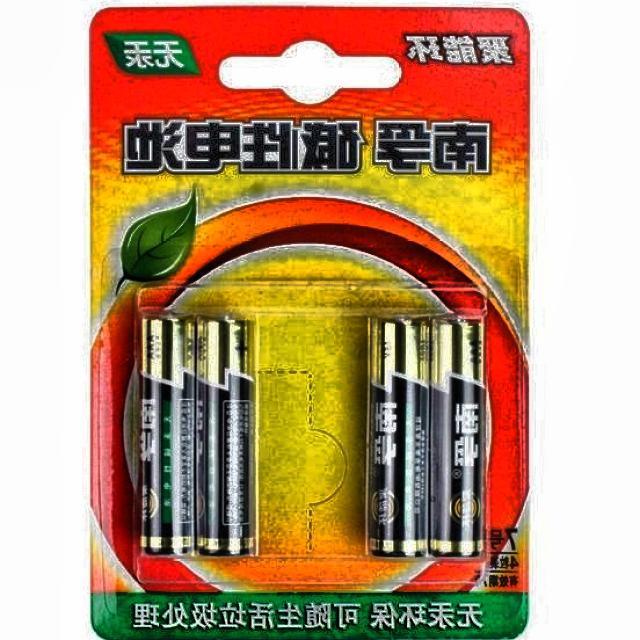Non-Valuable Waste - Batteries: (368, 320, 429, 557), (141, 317, 197, 554), (197, 318, 252, 555), (430, 320, 483, 557)
